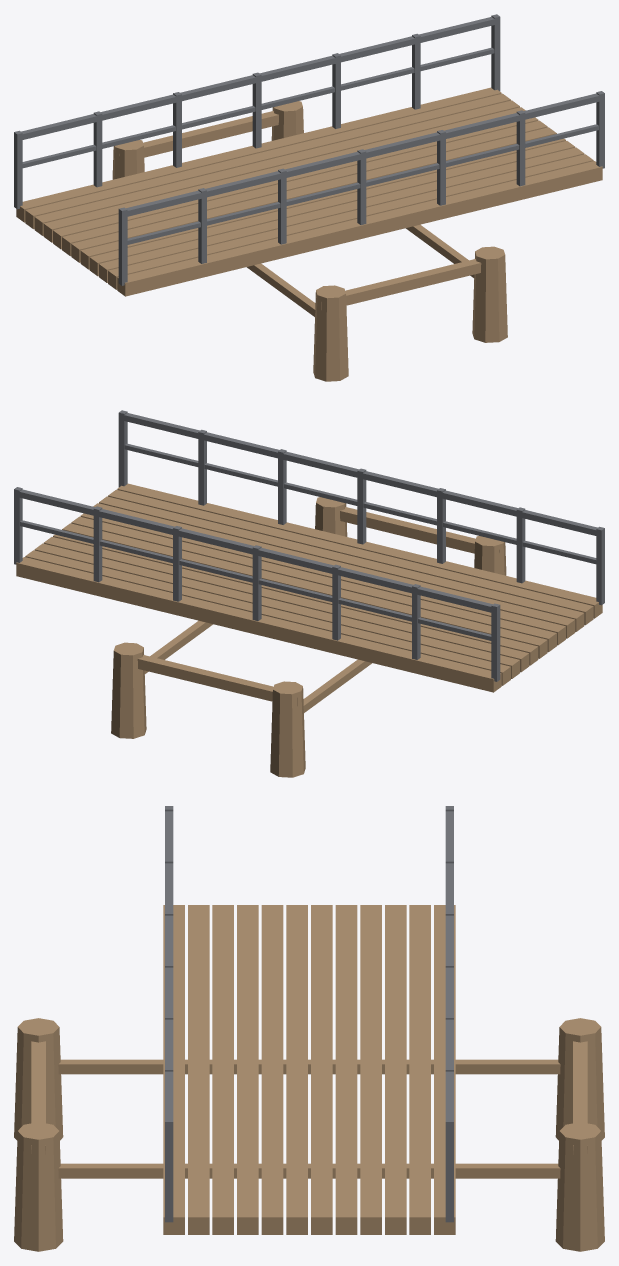
File: lighthouse-and-rocky-coast-jetty-deck-module-ffa043ab__36617.glb
3 views of the same model, one above another, from view 1: azimuth 30°, elevation 25°; view 2: azimuth 150°, elevation 25°; view 3: azimuth 270°, elevation 25° (orthographic). The views are drawn at different scales.
Parts seen in each view (by area): view 1: jetty-deck-module; view 2: jetty-deck-module; view 3: jetty-deck-module.
Boxes of the visible parts, x1,y1,x2,y2 form: jetty-deck-module: (14,14,604,381); jetty-deck-module: (14,410,604,777); jetty-deck-module: (14,806,604,1251).
Size of the model in its own units: 6.07 by 2.02 by 4.8.
